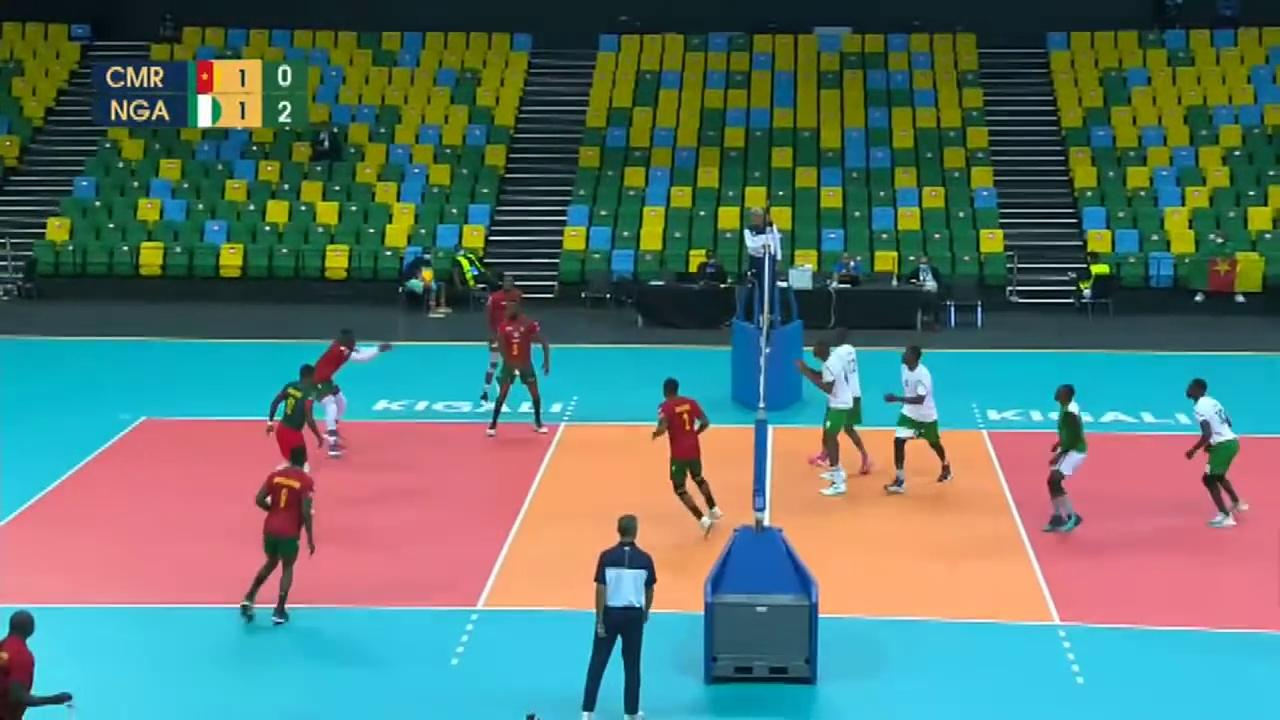player: (241, 442, 315, 623), (306, 324, 393, 459), (651, 379, 722, 531), (482, 299, 554, 439), (885, 348, 953, 489), (811, 326, 874, 477), (263, 363, 326, 508), (1185, 381, 1246, 525), (806, 334, 854, 506), (480, 266, 534, 400), (1047, 386, 1092, 527)
refree: (581, 516, 659, 718), (739, 202, 789, 330)
